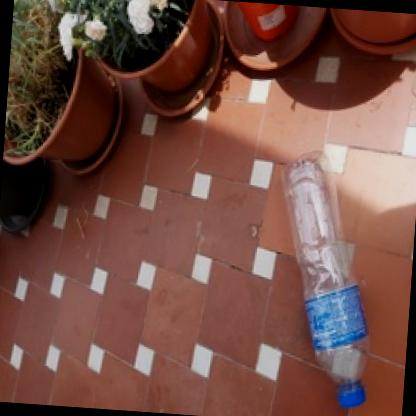plastic_bottles: (260, 146, 390, 416)
